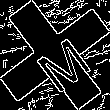M_NW: (22, 21, 88, 89)
